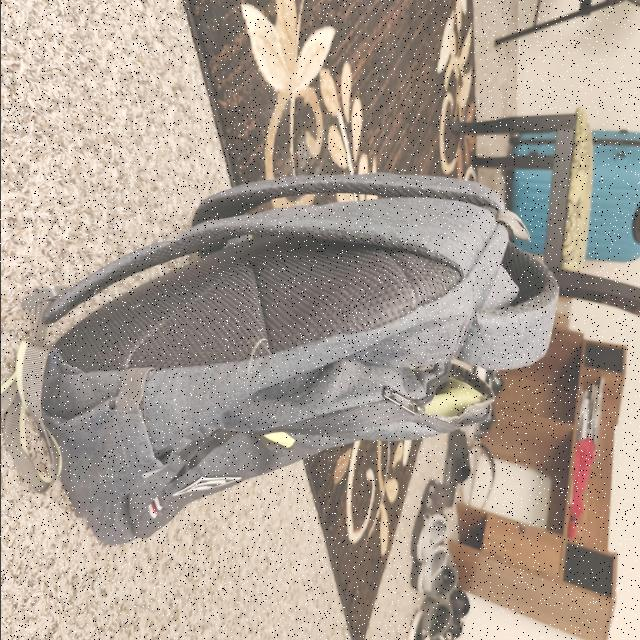bag: (12, 180, 548, 490)
